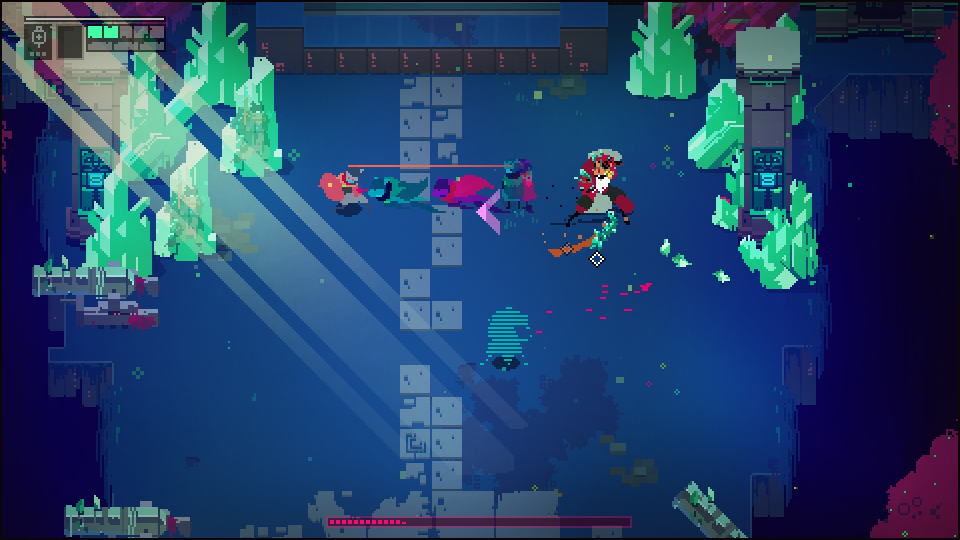hanged_man: (563, 146, 637, 264)
player: (315, 165, 381, 215)
